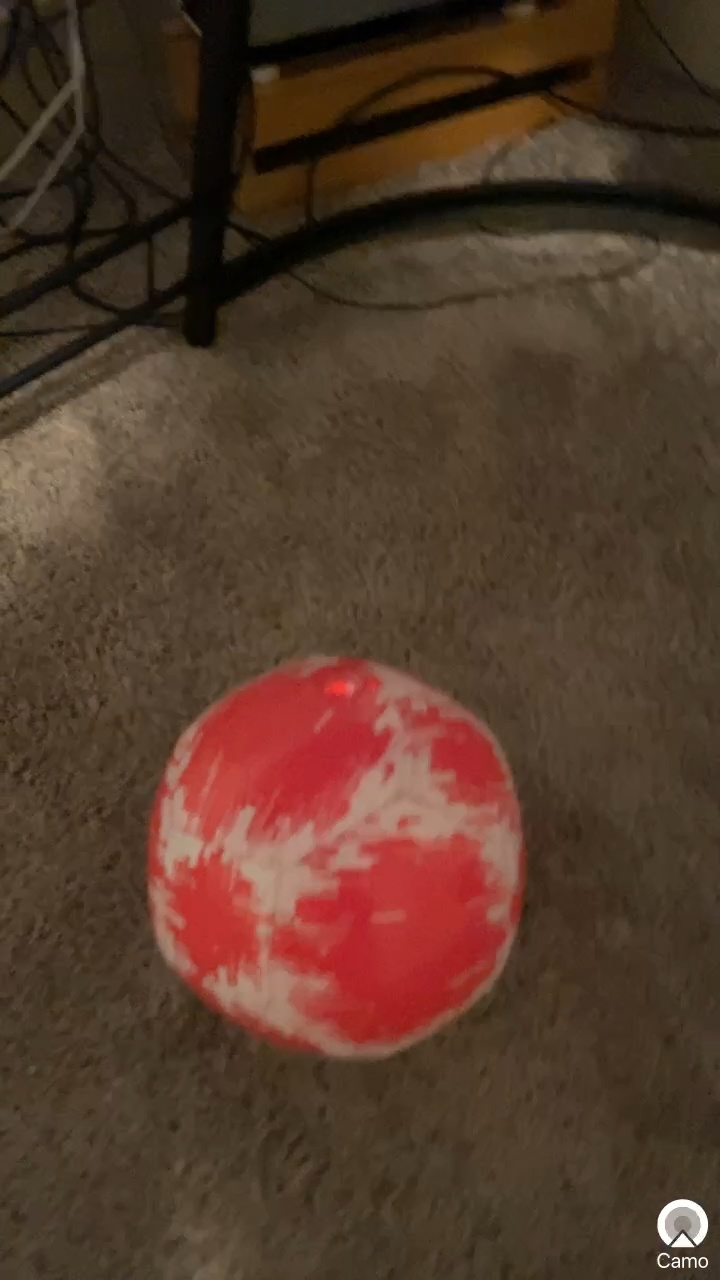Soccer_Ball: (117, 617, 540, 1087)
